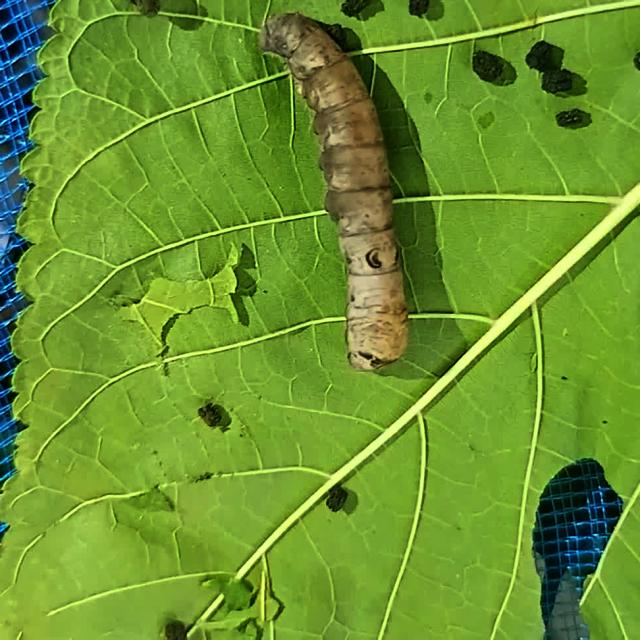Grasserie: (249, 5, 445, 387)
